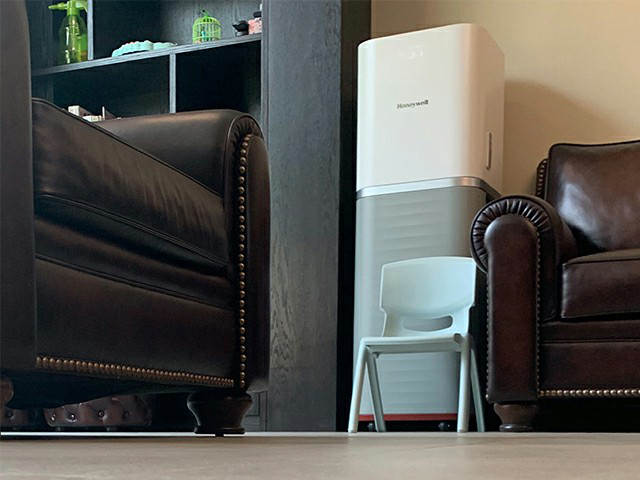sofa: (1, 1, 265, 428), (469, 141, 640, 435)
stool: (348, 256, 487, 433)
